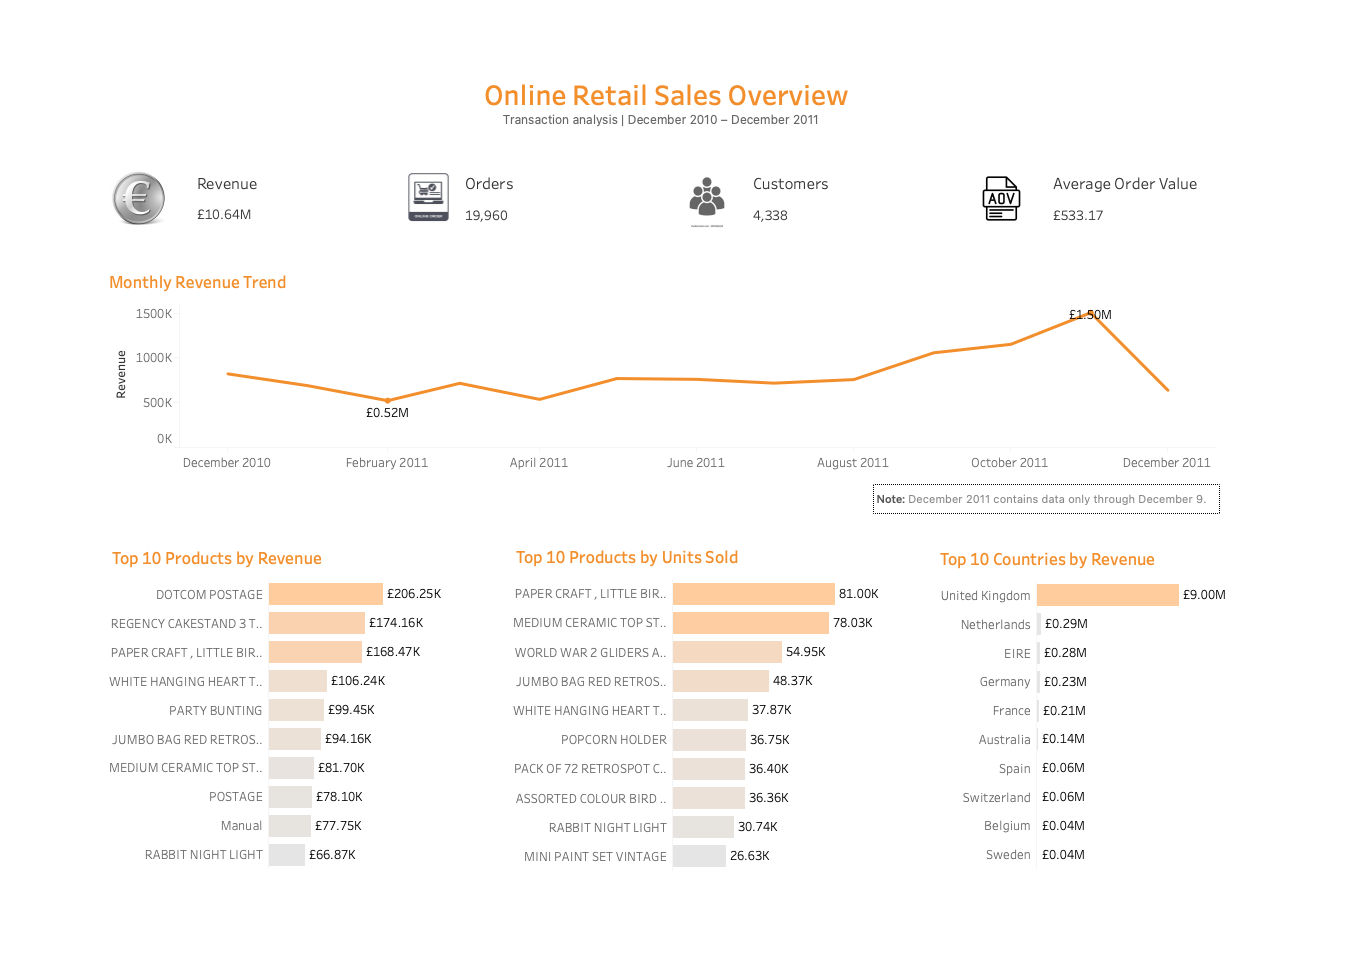

This screenshot's page, from the dashboard's own definition file:
{"tool":"tableau","page":{"name":"Online Retail Sales Overview","canvas":[1169,827],"ordinal":1},"visuals":[{"type":"title","box":[8,8,1153,60]},{"type":"image","param":"Image/Revenue .jpeg","box":[23,101,84,67]},{"type":"worksheet","title":"Revenue","mark":"Automatic","box":[107,101,211,67]},{"type":"image","param":"Image/orders.jpeg","box":[318,101,57,67]},{"type":"worksheet","title":"Orders","mark":"Automatic","box":[375,101,219,67]},{"type":"image","param":"Image/cusomer.jpeg","box":[594,101,69,67]},{"type":"worksheet","title":"Customers","mark":"Automatic","box":[663,101,223,67]},{"type":"image","param":"Image/AOV.png","box":[886,101,77,67]},{"type":"worksheet","title":"Average Order Value","mark":"Automatic","box":[963,101,192,67]},{"type":"worksheet","title":"Monthly Revenue Trend","mark":"Automatic","rows":["Calculation_0198443227643904"],"cols":["InvoiceDate"],"box":[3,183,1151,250]},{"type":"text","box":[791,420,347,30]},{"type":"worksheet","title":"Top 10 Products by Units Sold","mark":"Automatic","rows":["Description"],"cols":["Quantity"],"box":[410,458,419,369]},{"type":"worksheet","title":"Top 10 Products by Revenue","mark":"Automatic","rows":["Description"],"cols":["Calculation_0198443227643904"],"box":[6,459,384,366]}]}

Visuals, with their boxes in screenshot pixels (x1, y1, x2, y2), scaled from the page's 1169x827 canvas onto the 1367x954 screenshot:
title: bbox=(9, 9, 1358, 78)
image: bbox=(27, 117, 125, 194)
"Revenue" worksheet: bbox=(125, 117, 372, 194)
image: bbox=(372, 117, 439, 194)
"Orders" worksheet: bbox=(439, 117, 695, 194)
image: bbox=(695, 117, 775, 194)
"Customers" worksheet: bbox=(775, 117, 1036, 194)
image: bbox=(1036, 117, 1126, 194)
"Average Order Value" worksheet: bbox=(1126, 117, 1351, 194)
"Monthly Revenue Trend" worksheet: bbox=(4, 211, 1349, 499)
text: bbox=(925, 484, 1331, 519)
"Top 10 Products by Units Sold" worksheet: bbox=(479, 528, 969, 953)
"Top 10 Products by Revenue" worksheet: bbox=(7, 529, 456, 952)
